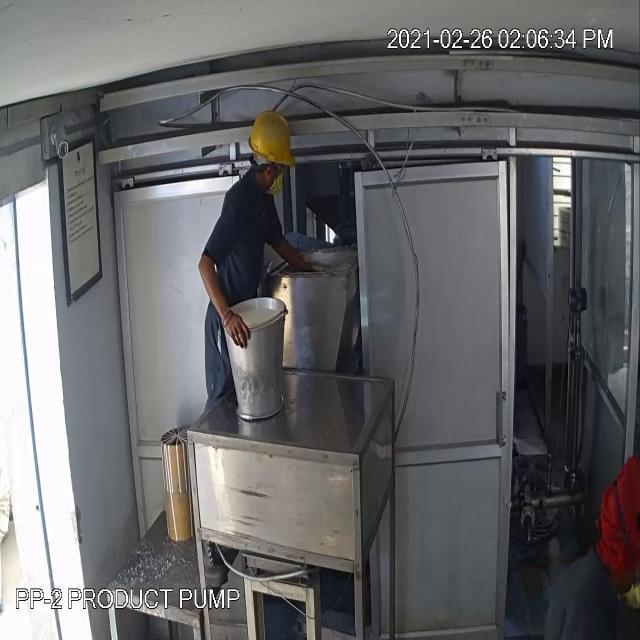hat: (238, 98, 304, 174)
